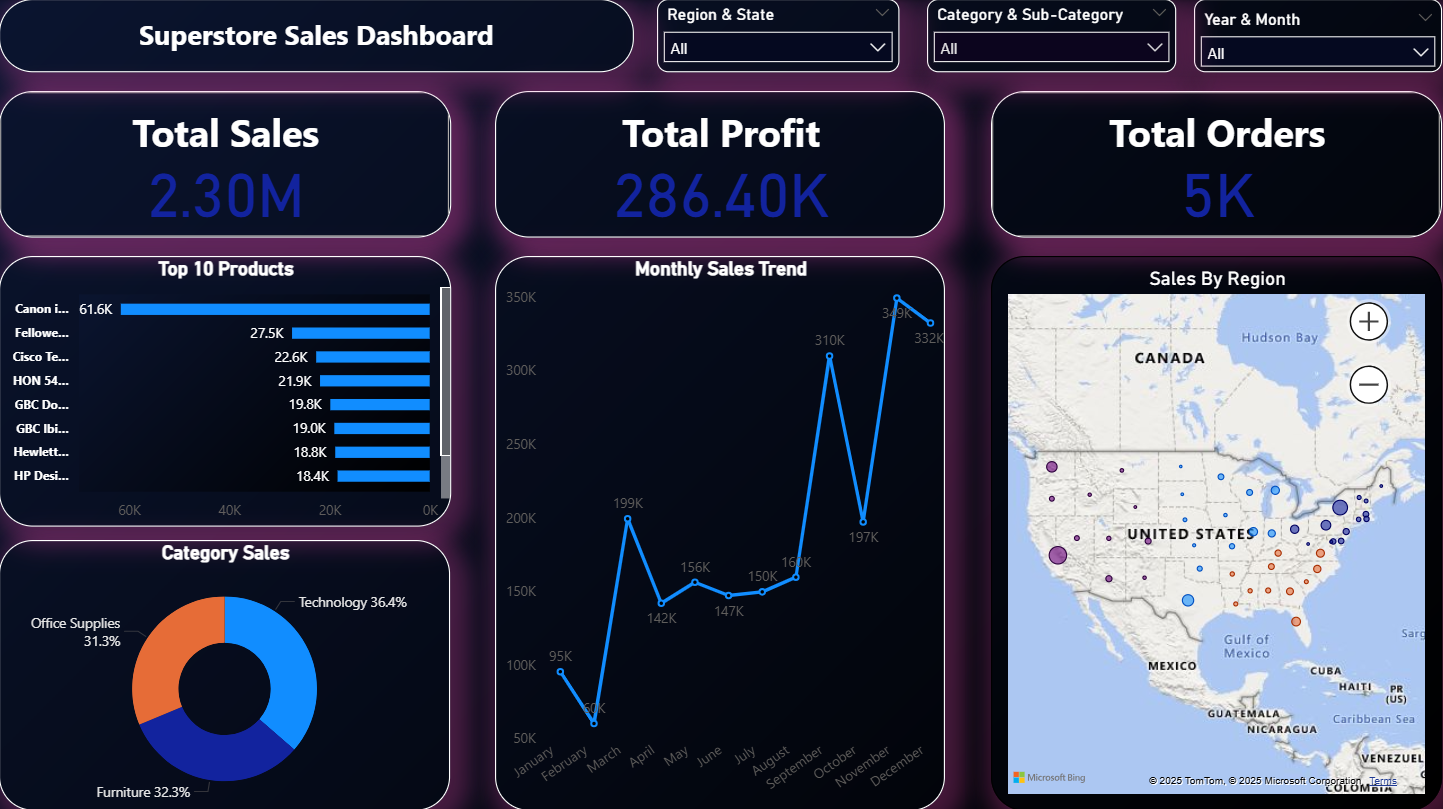

The dashboard page shown, as its layout file describes it:
{"tool":"powerbi","page":{"name":"Page 1","canvas":[1280,720],"ordinal":0},"visuals":[{"type":"cardVisual","fields":{"Data":["Orders.Total Sales"]},"box":[0,81.8,400.9,130],"z":0},{"type":"cardVisual","fields":{"Data":["Orders.Total Profit"]},"box":[440,81.8,399.1,130],"z":1000},{"type":"cardVisual","fields":{"Data":["Orders.Total Orders"]},"box":[880,81.8,400,130],"z":2000},{"type":"barChart","title":"Top 10 Products","fields":{"Category":["Orders.Product Name"],"Y":["Orders.Total Sales"]},"box":[0,228.2,400.9,240],"z":3000},{"type":"lineChart","title":"Monthly Sales Trend","fields":{"Y":["Orders.Total Sales"],"Category":["Orders.Order Date.Variation.Date Hierarchy.Month"]},"box":[440,228.2,399.1,491.8],"z":4000},{"type":"donutChart","title":"Category Sales","fields":{"Category":["Orders.Category"],"Y":["Orders.Total Sales"]},"box":[0,480,400,240],"z":5000},{"type":"map","title":"Sales By Region","fields":{"Category":["Orders.State"],"Size":["Orders.Total Sales"],"Series":["Orders.Region"]},"box":[880,228.2,400,491.8],"z":6000},{"type":"slicer","fields":{"Values":["Orders.Order Date.Variation.Date Hierarchy.Year","Orders.Order Date.Variation.Date Hierarchy.Month"]},"box":[1060,0,220,65],"z":7000},{"type":"slicer","fields":{"Values":["Orders.Category","Orders.Sub-Category"]},"box":[822.7,0,220.9,65.5],"z":8000},{"type":"slicer","fields":{"Values":["Orders.Region","Orders.State"]},"box":[583.6,0,214.5,65.5],"z":9000},{"type":"textbox","box":[0,0,562.7,65.5],"z":9001}]}

Visuals, with their boxes in screenshot pixels (x1, y1, x2, y2), scaled from the page's 1280x720 canvas onto the 1443x809 screenshot:
cardVisual - Orders.Total Sales: crop(0, 92, 452, 238)
cardVisual - Orders.Total Profit: crop(496, 92, 946, 238)
cardVisual - Orders.Total Orders: crop(992, 92, 1442, 238)
"Top 10 Products" barChart: crop(0, 256, 452, 526)
"Monthly Sales Trend" lineChart: crop(496, 256, 946, 808)
"Category Sales" donutChart: crop(0, 539, 451, 808)
"Sales By Region" map: crop(992, 256, 1442, 808)
slicer - Orders.Order Date.Variation.Date Hierarchy.Year x Orders.Order Date.Variation.Date Hierarchy.Month: crop(1195, 0, 1442, 73)
slicer - Orders.Category x Orders.Sub-Category: crop(927, 0, 1176, 74)
slicer - Orders.Region x Orders.State: crop(658, 0, 900, 74)
textbox: crop(0, 0, 634, 74)
